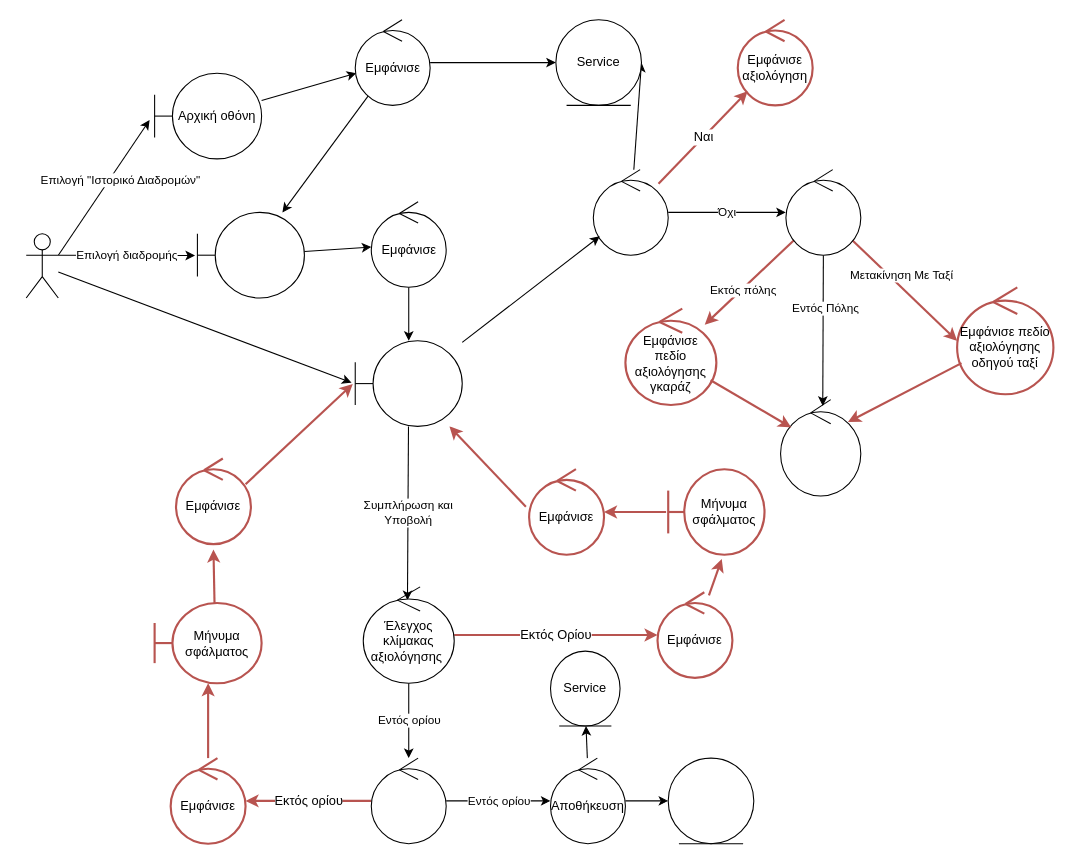
The diagram is 1073 pixels wide and 862 high, and some of its shapes have lost their labels. Here are the shapes that lost their labels. From the top down, the box of each, then its label:
(592, 169, 668, 255): Έχει ήδη αξιολογηθεί;
(785, 169, 861, 255): Έλεγχος τύπου διαδρομής
(25, 233, 58, 298): Πελάτης
(196, 211, 304, 298): Ιστορικό Διαδρομών
(354, 340, 462, 426): Οθόνη Αξιολόγησης
(779, 399, 861, 496): Εμφάνιση επιλογών αξιολόγης οχήματος
(370, 757, 446, 844): Έλεγχος μεγέθους σχολίων
(667, 757, 754, 844): Βάση Δεδομένων
